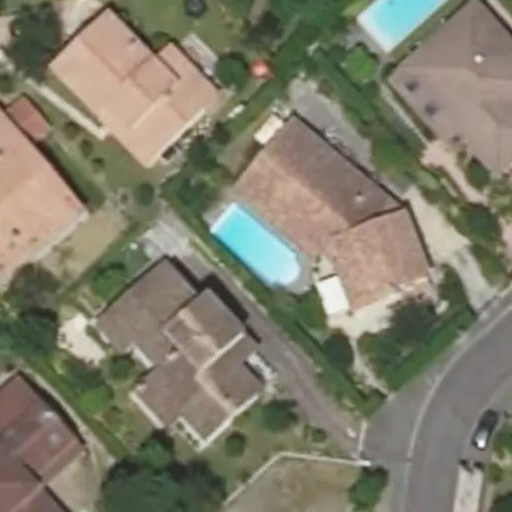pool: (214, 231, 297, 252)
